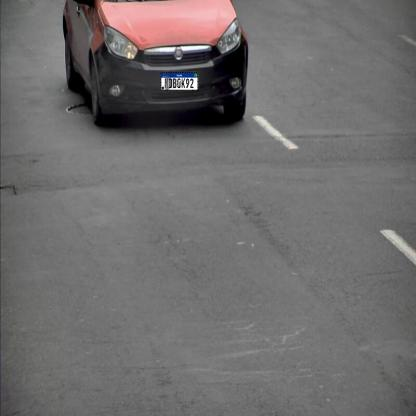PlacaM: (161, 72, 198, 91)
